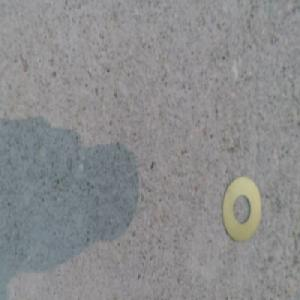Washer: (218, 176, 258, 243)
